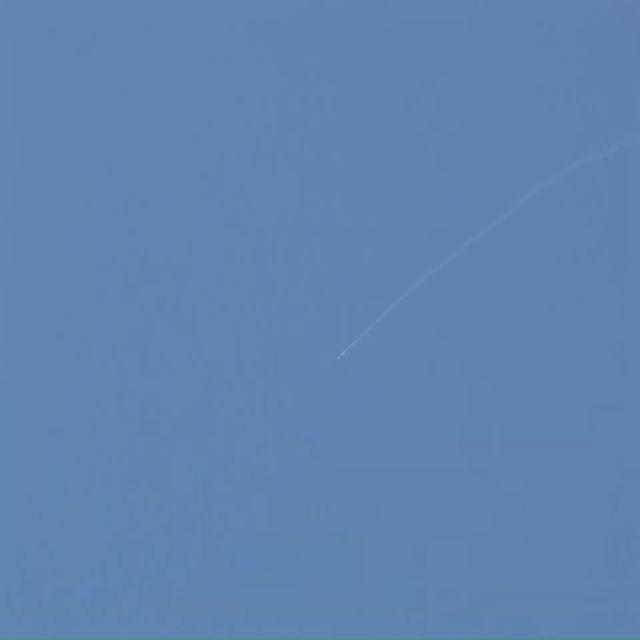Rocket: (338, 351, 347, 360)
